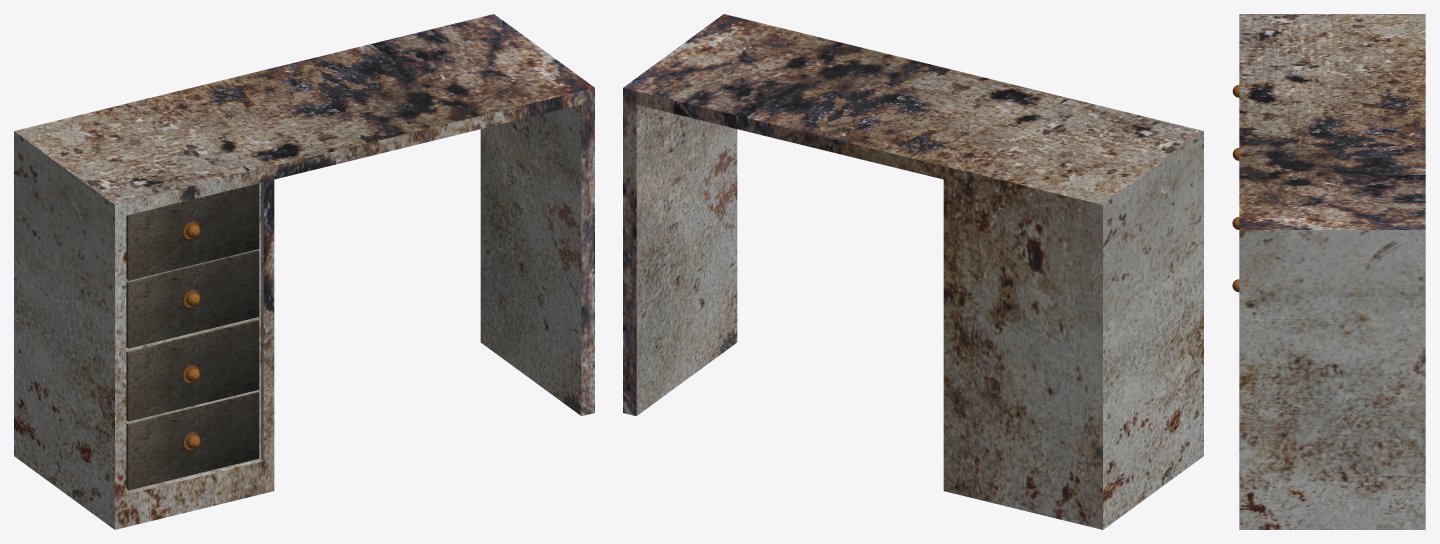
Rendered from EscrivaninhaCMesaV2.fbx.
3 views of the same model, side by side, from view 1: azimuth 30°, elevation 25°; view 2: azimuth 150°, elevation 25°; view 3: azimuth 270°, elevation 25° (orthographic). The views are drawn at different scales.
Parts seen in each view (by area): view 1: pCube1, pCube5, pCube3, pCube6, pCube4; view 2: pCube1; view 3: pCube1.
Boxes of the visible parts, box(x1,y1,x2,y2) form: pCube1: box(14, 14, 594, 529); pCube5: box(126, 320, 259, 421); pCube3: box(126, 250, 259, 348); pCube6: box(126, 392, 259, 490); pCube4: box(126, 183, 259, 280); pCube1: box(623, 14, 1203, 529); pCube1: box(1239, 14, 1425, 529).
Size of the model in its own units: 1.22 by 0.7896 by 0.4608.
Materials: 3 (3 with a texture image).
